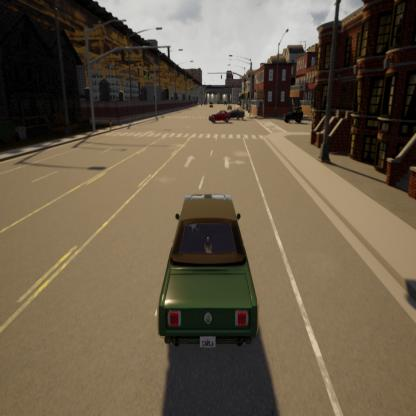Cars: (156, 193, 260, 352), (284, 106, 304, 128), (209, 107, 230, 125), (230, 108, 245, 119)
